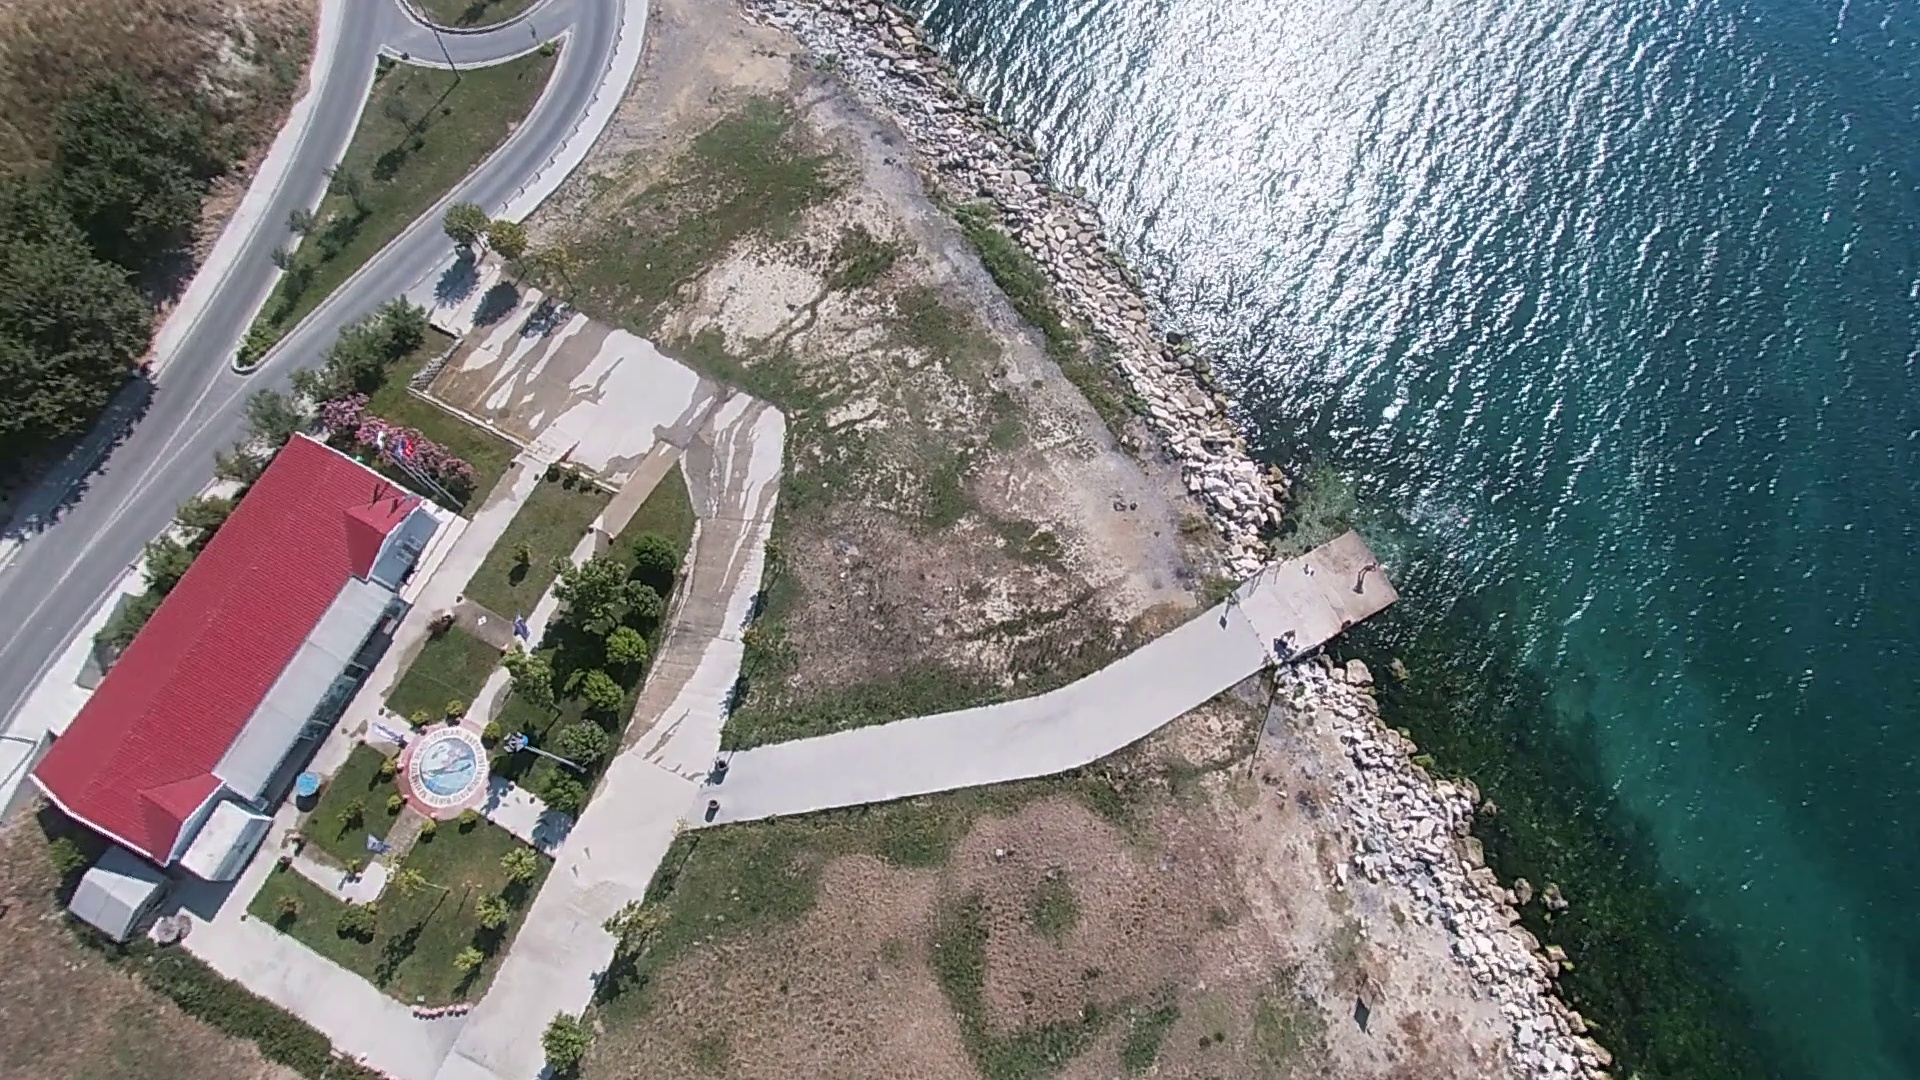insan: (1350, 558, 1398, 586), (1277, 627, 1297, 648)
